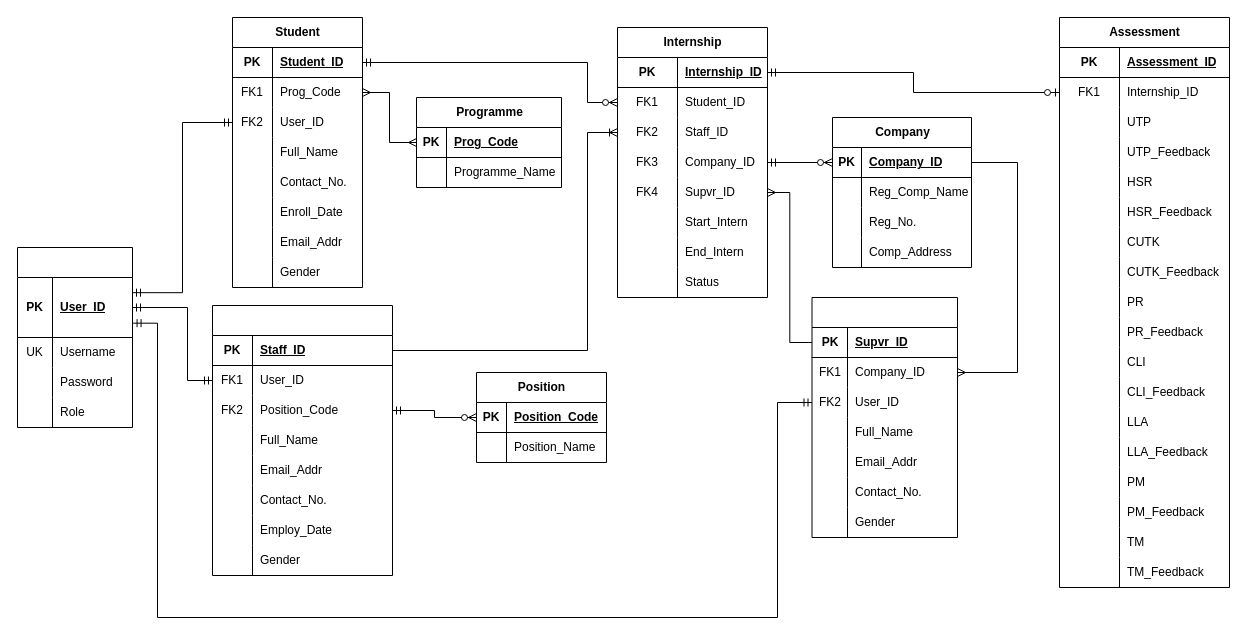
Some shapes in this 1247 by 644 pixel diagram are drawn without their labels. Each missing label, with the box of its shape:
Inds_Supervisor: (811, 296, 958, 538)
Uni_Staff: (212, 304, 392, 576)
User_Login: (16, 246, 132, 428)
